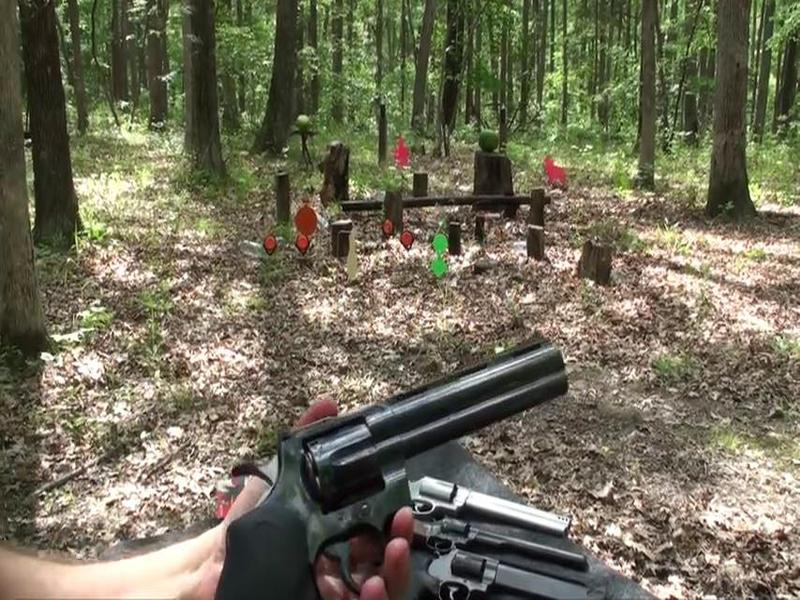Revolver: (210, 326, 570, 600)
